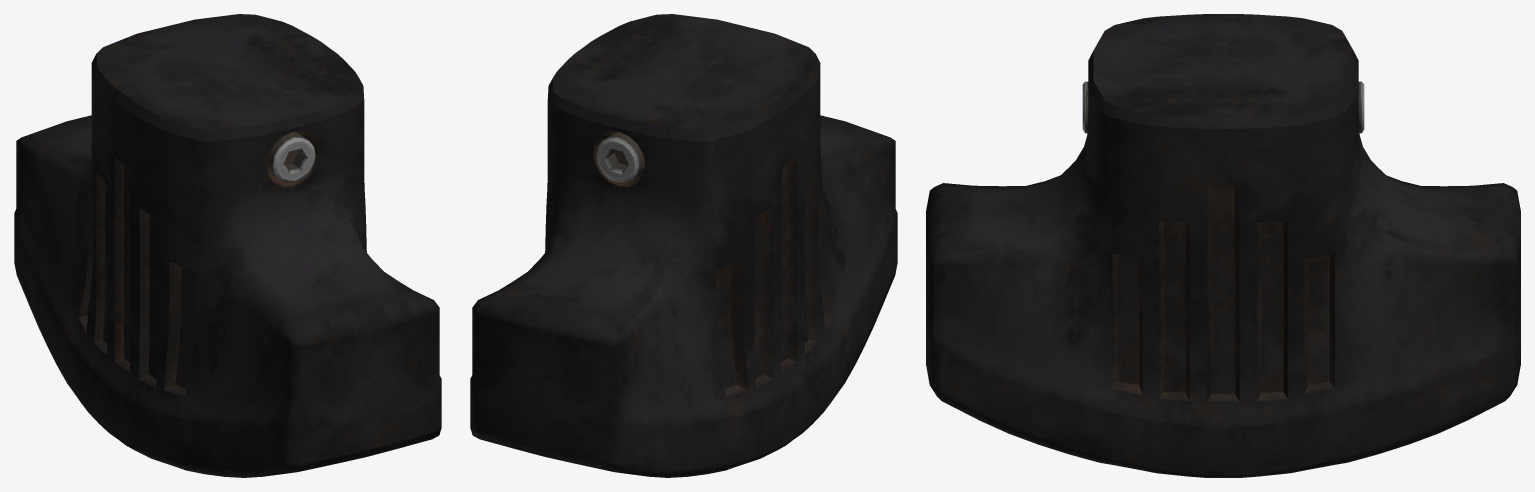
The model's file is Pommel_Hammer_1.glb.
The picture shows the model from 3 angles, left to right: view 1: azimuth 30°, elevation 25°; view 2: azimuth 150°, elevation 25°; view 3: azimuth 270°, elevation 25°; orthographic projection. The views are drawn at different scales.
Parts seen in each view (by area): view 1: Pommel_Hammer_1_LOD0; view 2: Pommel_Hammer_1_LOD0; view 3: Pommel_Hammer_1_LOD0.
Boxes of the visible parts, box(x1,y1,x2,y2) form: Pommel_Hammer_1_LOD0: box(14, 14, 441, 477); Pommel_Hammer_1_LOD0: box(470, 14, 897, 477); Pommel_Hammer_1_LOD0: box(926, 14, 1520, 477).
Bounding box in the file's own units: 0.0507 × 0.0728 × 0.1101.
1 material, 1 textured.
